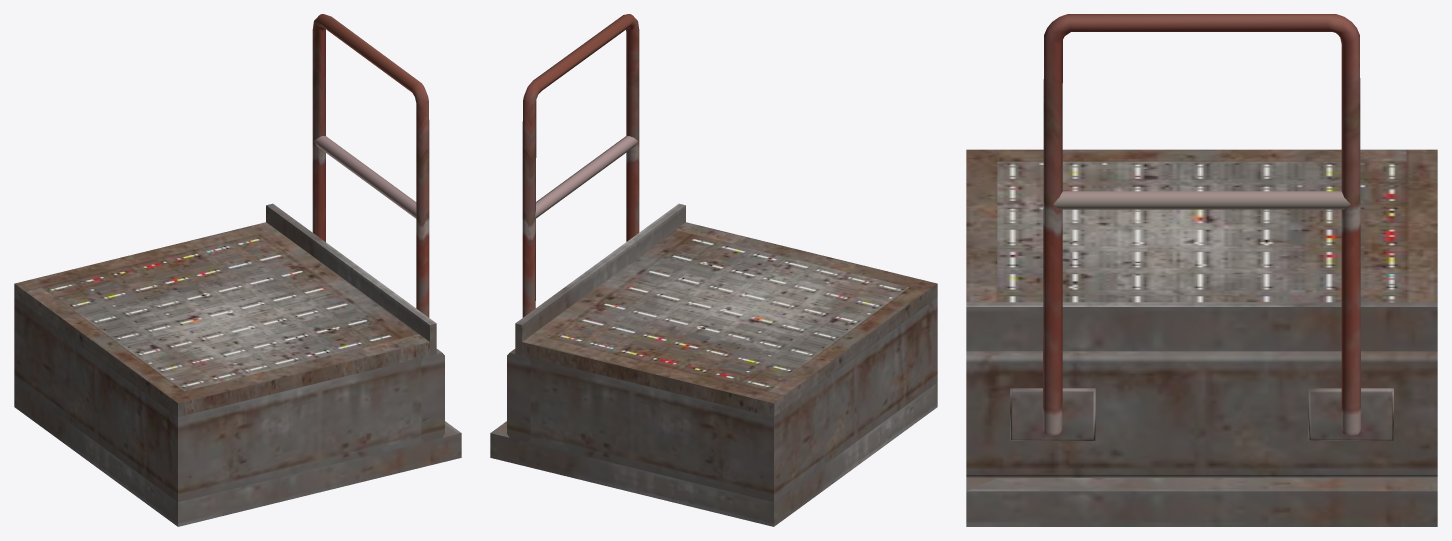
File: walkway_b_150x150_single_red.glb
3 views of the same model, side by side, from view 1: azimuth 30°, elevation 25°; view 2: azimuth 150°, elevation 25°; view 3: azimuth 270°, elevation 25° (orthographic). The views are drawn at different scales.
Visible parts, largest first — view 1: walkway_b_150x150_single_red; view 2: walkway_b_150x150_single_red; view 3: walkway_b_150x150_single_red.
Boxes of the visible parts, bbox=[...] form: walkway_b_150x150_single_red: bbox=[14, 14, 461, 526]; walkway_b_150x150_single_red: bbox=[490, 14, 937, 526]; walkway_b_150x150_single_red: bbox=[966, 14, 1437, 526].
Size of the model in its own units: 1.5 by 1.78 by 1.5.
1 material, 1 textured.
